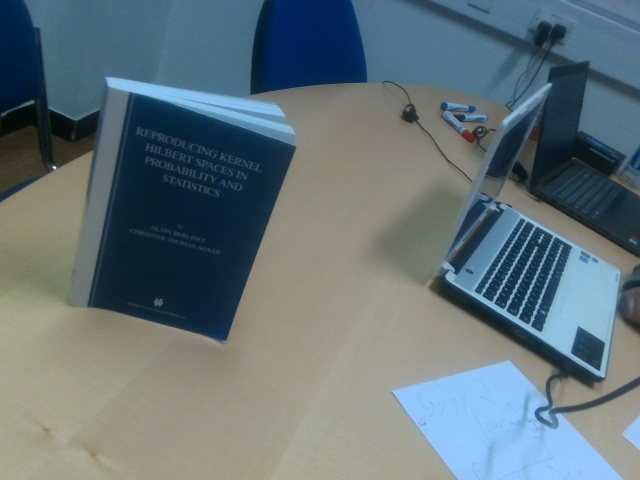book: (67, 74, 298, 345)
